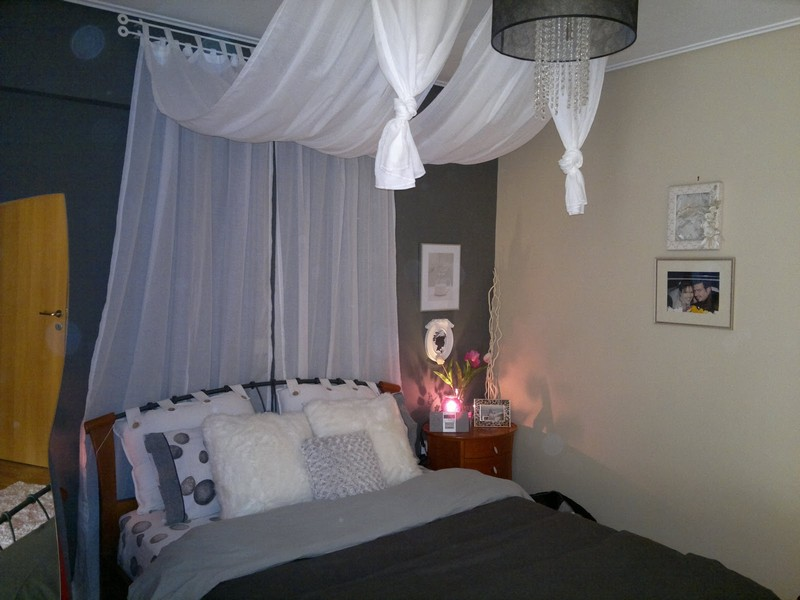bed: (88, 377, 786, 599)
door: (3, 187, 71, 478)
lamp: (439, 385, 467, 427)
stool: (421, 418, 518, 489)
